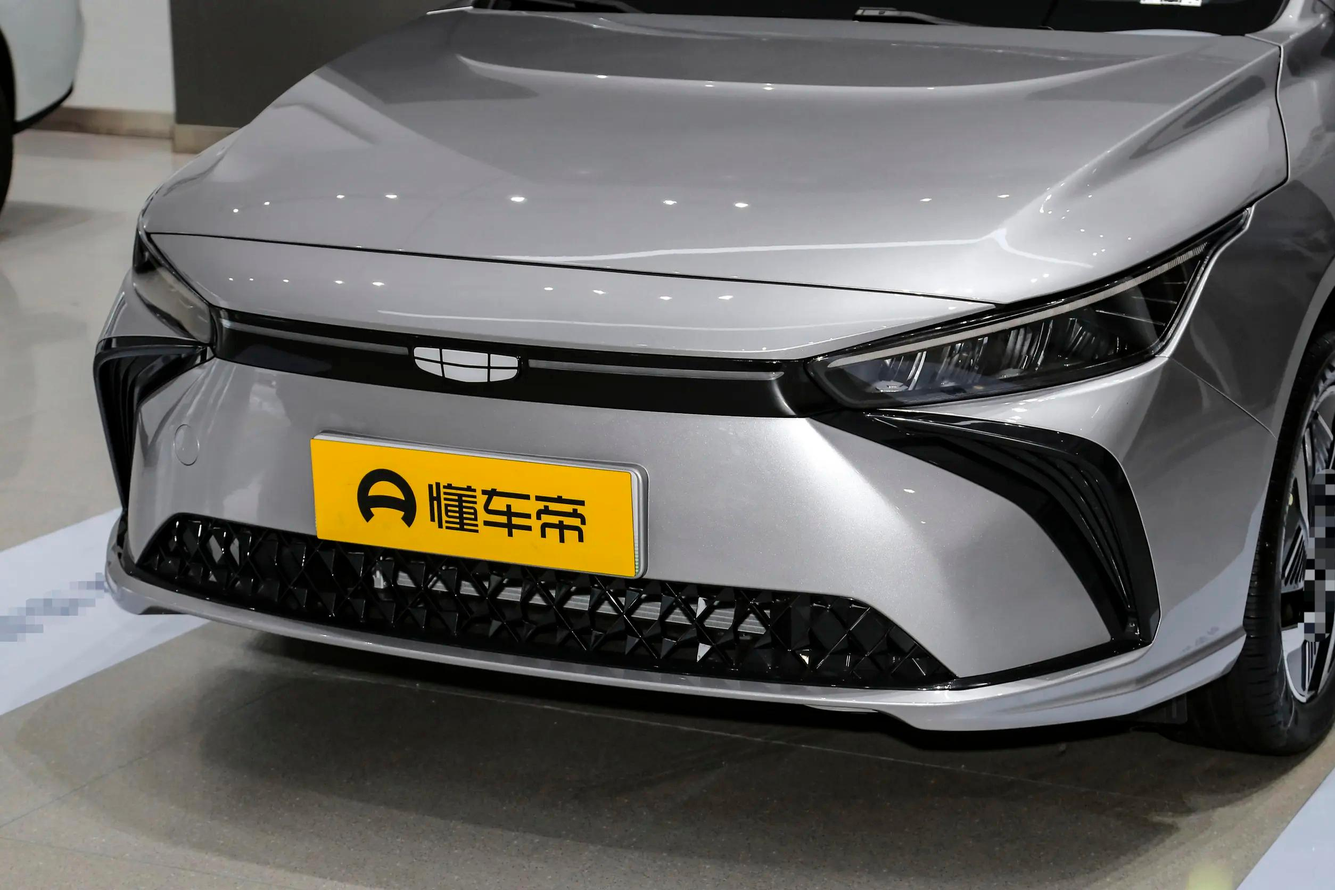GEOMETRY: (415, 348, 517, 381)
